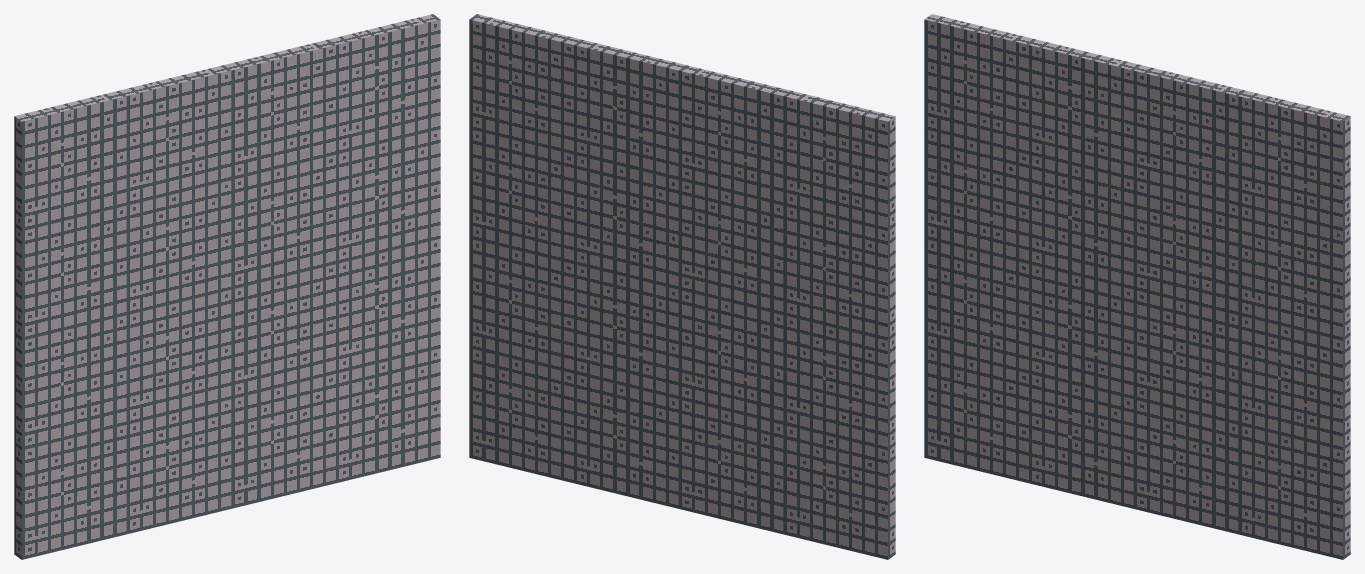
The model's file is wall_textured_d_8_tall_col.gltf.
3 renders of one model, left to right at view 1: azimuth 30°, elevation 25°; view 2: azimuth 150°, elevation 25°; view 3: azimuth 330°, elevation 25°, orthographic.
Parts seen in each view (by area): view 1: wall_textured_d_8_tall_col; view 2: wall_textured_d_8_tall_col; view 3: wall_textured_d_8_tall_col.
Boxes of the visible parts, <box> form: wall_textured_d_8_tall_col: <box>14,14,440,559</box>; wall_textured_d_8_tall_col: <box>469,14,895,559</box>; wall_textured_d_8_tall_col: <box>924,14,1350,559</box>.
Size of the model in its own units: 8 by 8 by 0.25.
1 material, 1 textured.
